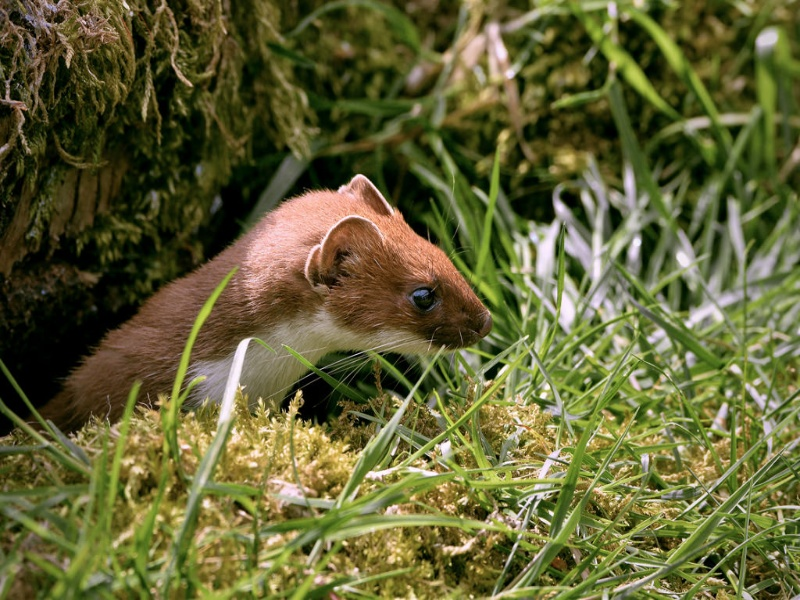minkish: (13, 170, 497, 452)
